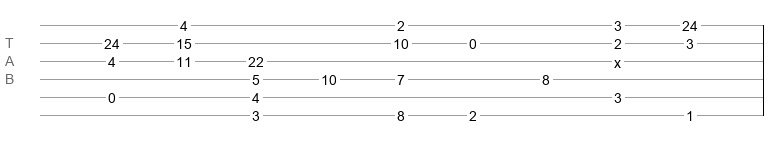0: (108, 90, 116, 100), (469, 36, 477, 46)
1: (686, 108, 694, 118)
10: (321, 72, 337, 82), (393, 36, 409, 46)
11: (176, 54, 192, 64)
15: (176, 36, 192, 46)
2: (397, 18, 405, 28), (469, 108, 477, 118), (614, 36, 622, 46)
22: (248, 54, 264, 64)
24: (104, 36, 120, 46), (682, 18, 698, 28)
3: (252, 108, 260, 118), (614, 18, 622, 28), (614, 90, 622, 100), (686, 36, 694, 46)
4: (108, 54, 116, 64), (180, 18, 188, 28), (252, 90, 260, 100)
5: (252, 72, 260, 82)
7: (397, 72, 405, 82)
8: (397, 108, 405, 118), (542, 72, 550, 82)
x: (614, 55, 621, 63)
